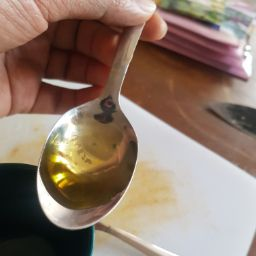Oil: (2, 81, 150, 235), (51, 142, 136, 215), (60, 121, 118, 213), (72, 120, 112, 200)
